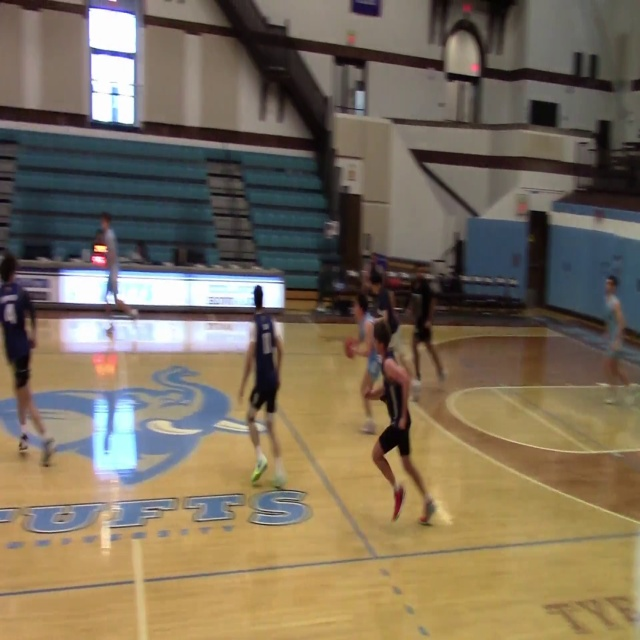Basketball: (382, 358, 409, 385), (373, 319, 390, 344), (343, 337, 356, 358)
